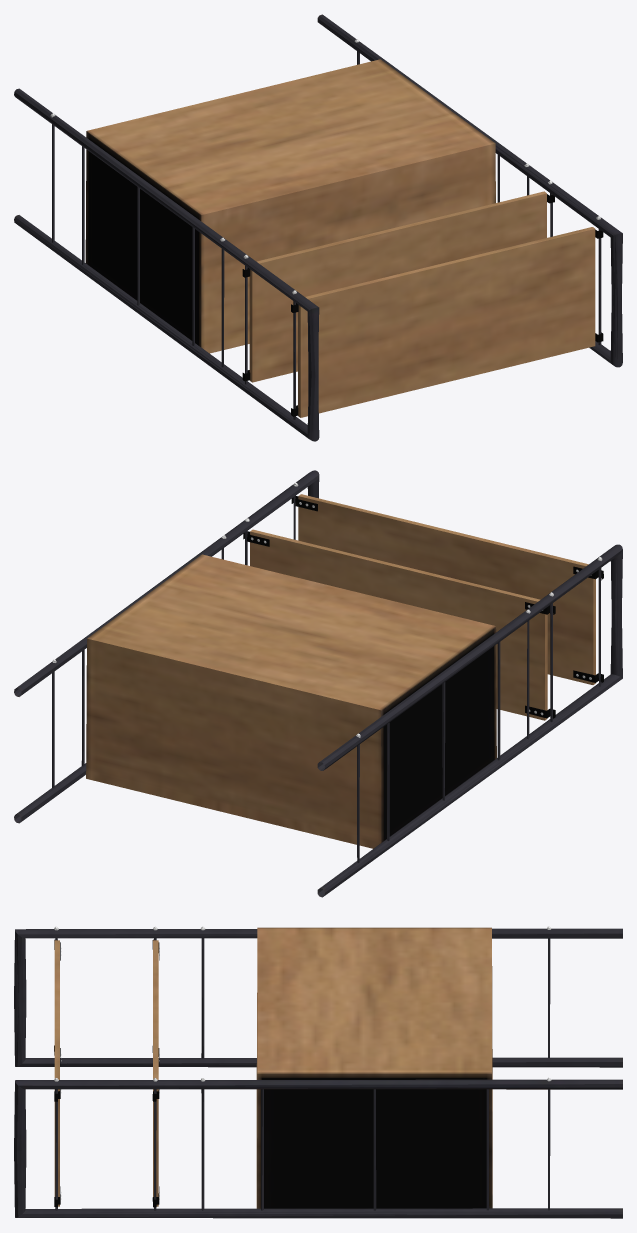
3 renders of one model, top to bottom at view 1: azimuth 30°, elevation 25°; view 2: azimuth 150°, elevation 25°; view 3: azimuth 270°, elevation 25°, orthographic.
Visible parts, largest first — view 1: part_4; view 2: part_4; view 3: part_4.
Boxes of the visible parts, <box> form: part_4: <box>14,14,622,441</box>; part_4: <box>14,470,622,897</box>; part_4: <box>14,926,622,1218</box>.
Bounding box in the file's own units: 1.14 × 0.4901 × 1.88.
1 material, 1 textured.
